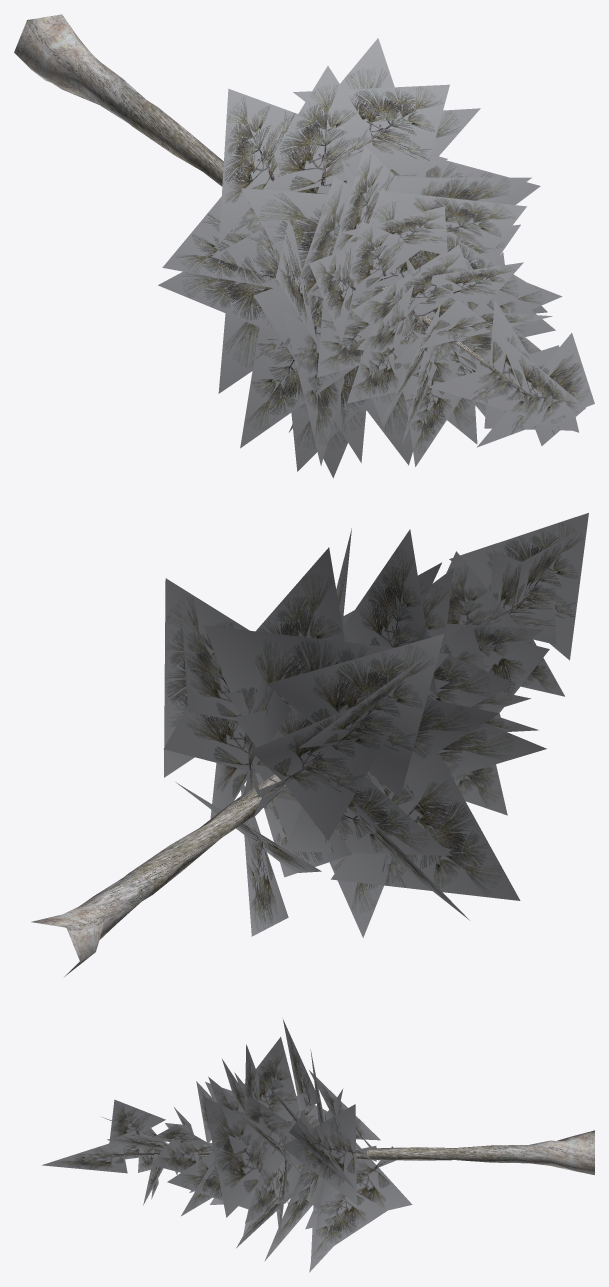
The model's file is tree_snow_pine_sm_c.glb.
3 renders of one model, top to bottom at view 1: azimuth 30°, elevation 25°; view 2: azimuth 150°, elevation 25°; view 3: azimuth 270°, elevation 25°, orthographic. The views are drawn at different scales.
Size of the model in its own units: 178 by 177 by 436.
Materials: 2 (2 with a texture image).
